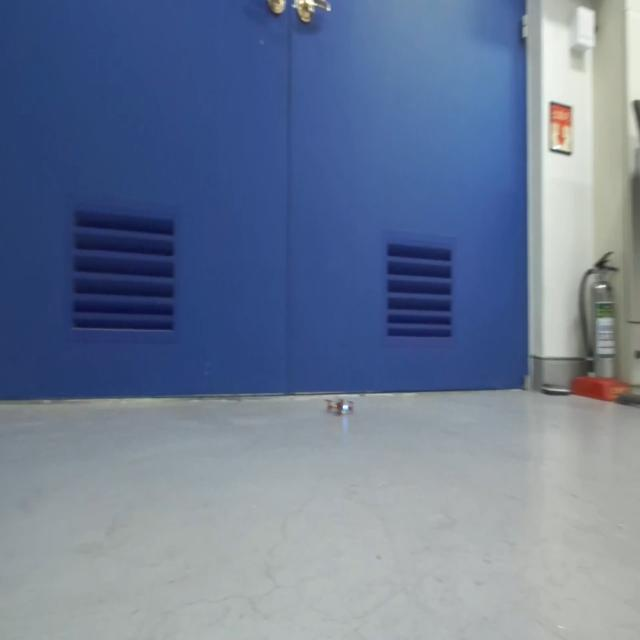crazyflie: (324, 391, 358, 420)
